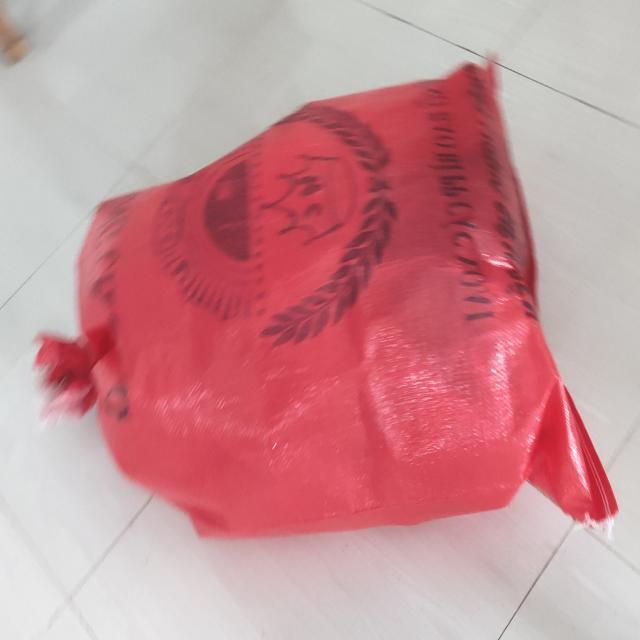gunny_bag: (36, 63, 618, 537)
